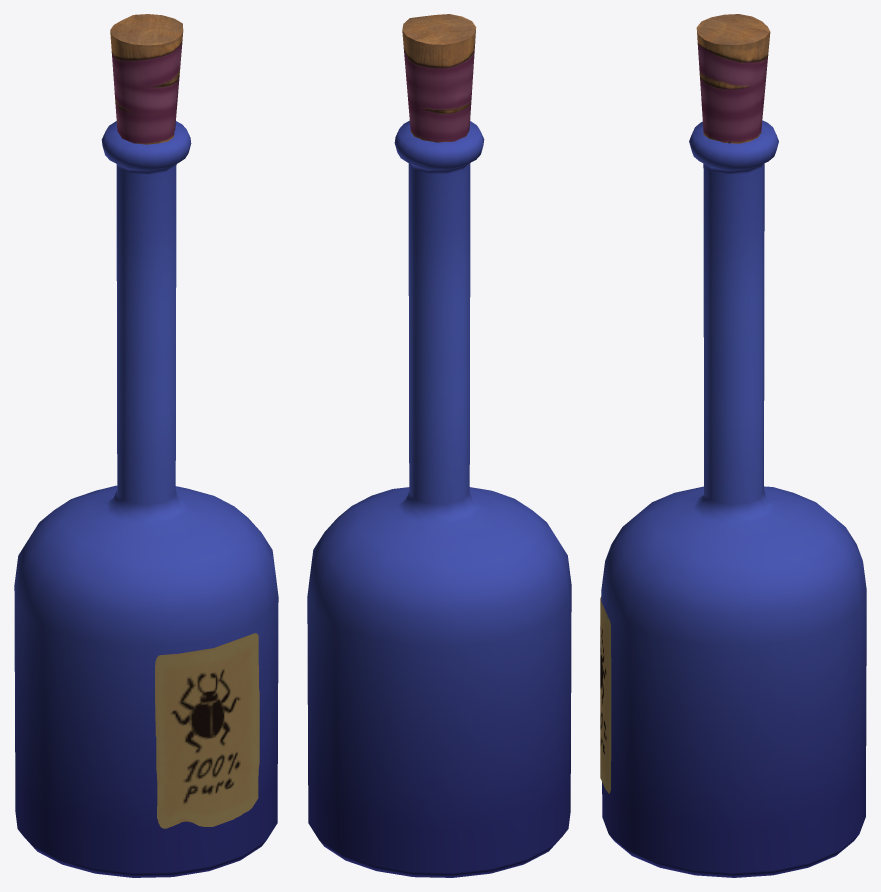
Rendered from SM_Potion_Props_Bottle_Small_04_B.fbx.
3 views of the same model, side by side, from view 1: azimuth 30°, elevation 25°; view 2: azimuth 150°, elevation 25°; view 3: azimuth 270°, elevation 25° (orthographic).
Parts seen in each view (by area): view 1: SM_Potion_Props_Bottle_Small_04_B_LOD0; view 2: SM_Potion_Props_Bottle_Small_04_B_LOD0; view 3: SM_Potion_Props_Bottle_Small_04_B_LOD0.
Boxes of the visible parts, x1,y1,x2,y2 form: SM_Potion_Props_Bottle_Small_04_B_LOD0: (14,14,278,877); SM_Potion_Props_Bottle_Small_04_B_LOD0: (307,14,571,877); SM_Potion_Props_Bottle_Small_04_B_LOD0: (600,14,866,877).
Size of what is drawn, in the model's own units: 10 by 33.2 by 10.05.
